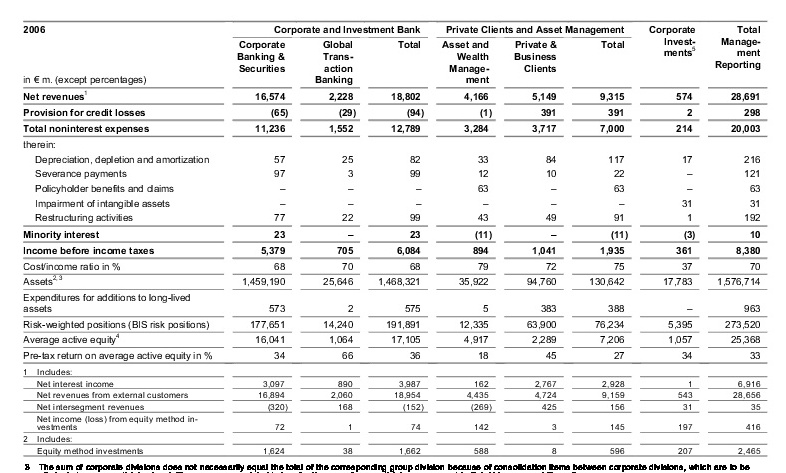table: (0, 0, 786, 473)
